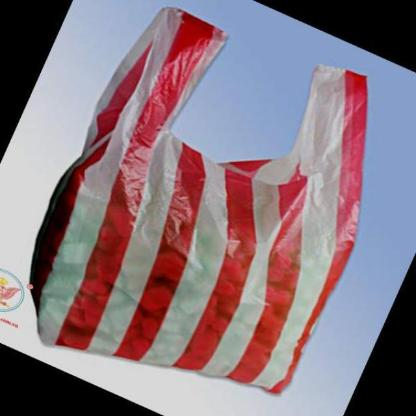Plastic Bag: (27, 6, 368, 396)
